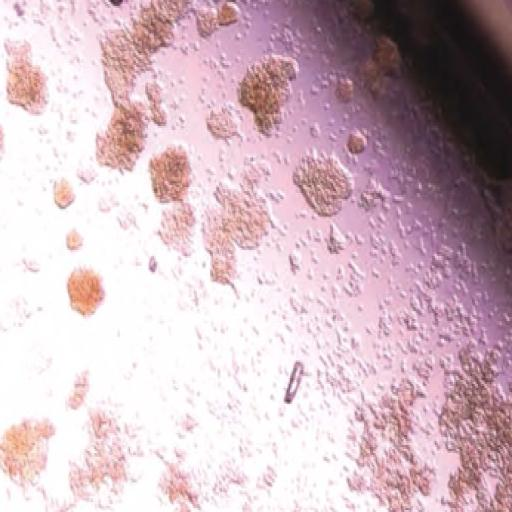CFU-GEMM: (439, 349, 511, 510), (349, 380, 432, 510), (202, 158, 275, 287), (105, 0, 186, 103), (70, 408, 127, 506), (237, 54, 297, 137), (0, 34, 51, 120), (94, 91, 146, 175), (293, 152, 352, 215), (0, 419, 53, 484), (0, 419, 52, 484), (363, 34, 411, 102), (69, 266, 106, 313)
